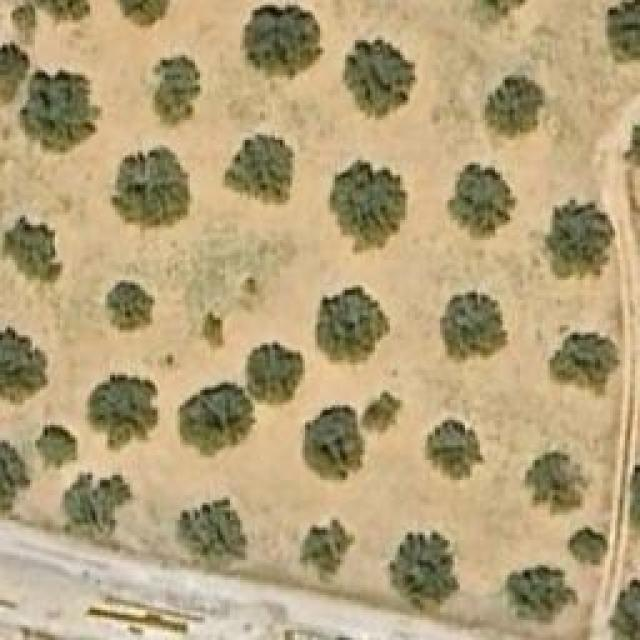Tree: (110, 142, 193, 230), (343, 40, 418, 123), (330, 158, 405, 241), (177, 380, 255, 458), (390, 530, 458, 618), (18, 72, 93, 150), (243, 5, 323, 78), (318, 287, 391, 365), (543, 200, 616, 278), (445, 163, 515, 238), (88, 373, 158, 448), (223, 133, 293, 206), (303, 405, 366, 483), (440, 293, 508, 363), (548, 333, 621, 396), (65, 473, 130, 538), (523, 450, 588, 513), (485, 75, 550, 138), (177, 498, 245, 558), (508, 565, 578, 623), (5, 218, 63, 283), (425, 420, 483, 483), (152, 53, 200, 126), (248, 343, 303, 398), (300, 518, 348, 581), (0, 332, 42, 399), (103, 280, 156, 333), (607, 0, 640, 62), (360, 390, 403, 435), (610, 580, 640, 640), (38, 425, 78, 468), (568, 528, 608, 571), (7, 0, 45, 38), (0, 43, 25, 98), (118, 0, 171, 25), (203, 310, 223, 345)
